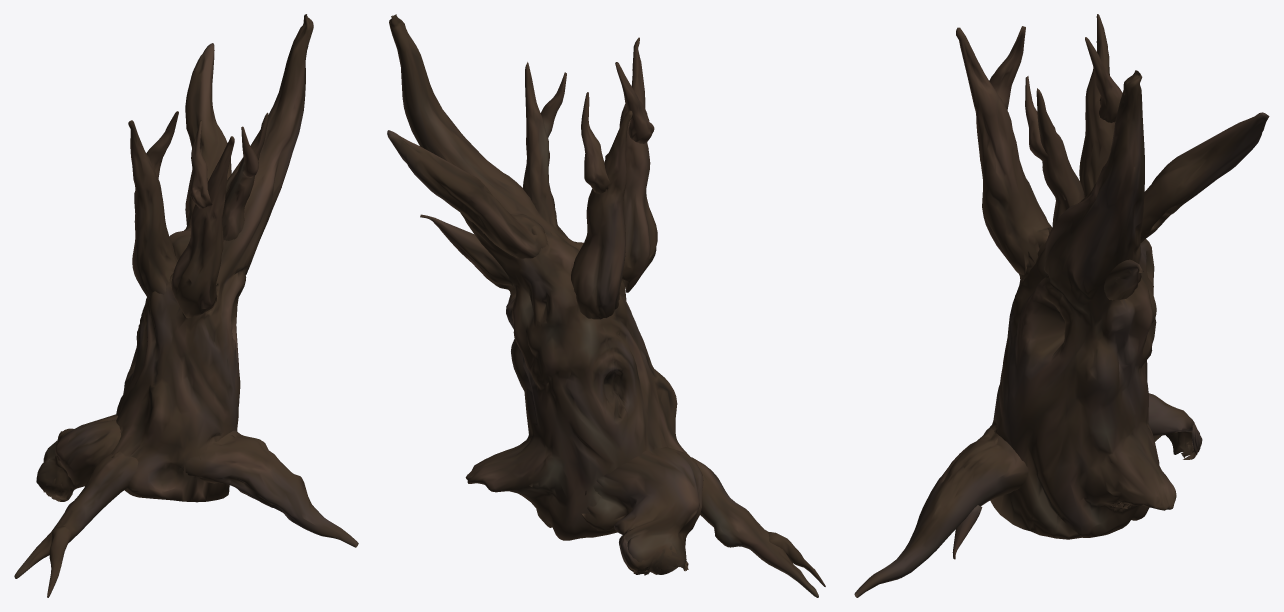
The model's file is OldTree.fbx.
3 renders of one model, left to right at view 1: azimuth 30°, elevation 25°; view 2: azimuth 150°, elevation 25°; view 3: azimuth 270°, elevation 25°, orthographic. The views are drawn at different scales.
Visible parts, largest first — view 1: OldTree; view 2: OldTree; view 3: OldTree.
Boxes of the visible parts, left/top/right/bottom form: OldTree: left=14, top=14, right=358, bottom=597; OldTree: left=387, top=14, right=825, bottom=597; OldTree: left=854, top=14, right=1269, bottom=597.
Size of the model in its own units: 1.54 by 2.04 by 1.29.
